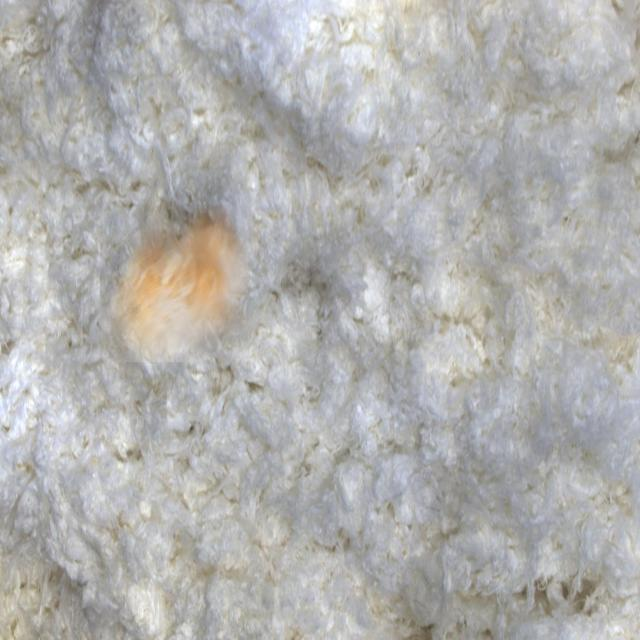dust: (101, 204, 249, 362)
